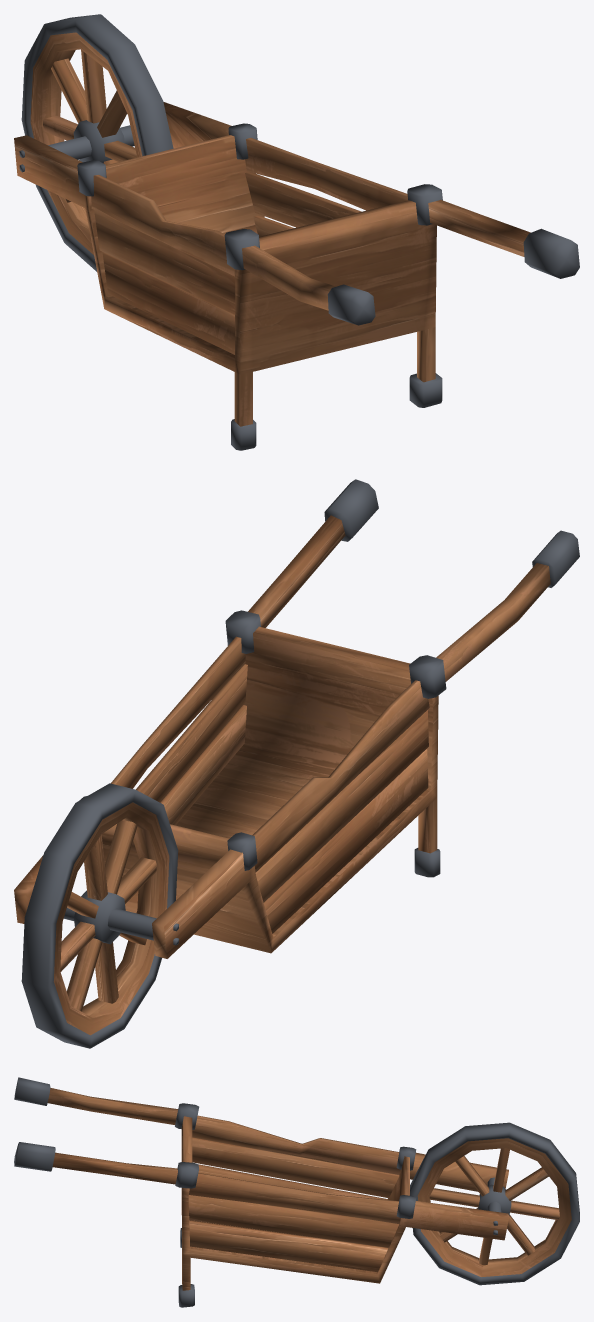
File: Wheelbarrow.fbx
3 renders of one model, top to bottom at view 1: azimuth 30°, elevation 25°; view 2: azimuth 150°, elevation 25°; view 3: azimuth 270°, elevation 25°, orthographic. The views are drawn at different scales.
Parts seen in each view (by area): view 1: Wheelbarrow; view 2: Wheelbarrow; view 3: Wheelbarrow.
Part boxes in pixels (x1,y1,x2,y2): Wheelbarrow: (14,14,579,450); Wheelbarrow: (14,479,579,1048); Wheelbarrow: (14,1077,579,1307).
Bounding box in the file's own units: 0.8914 × 0.9797 × 2.94.
